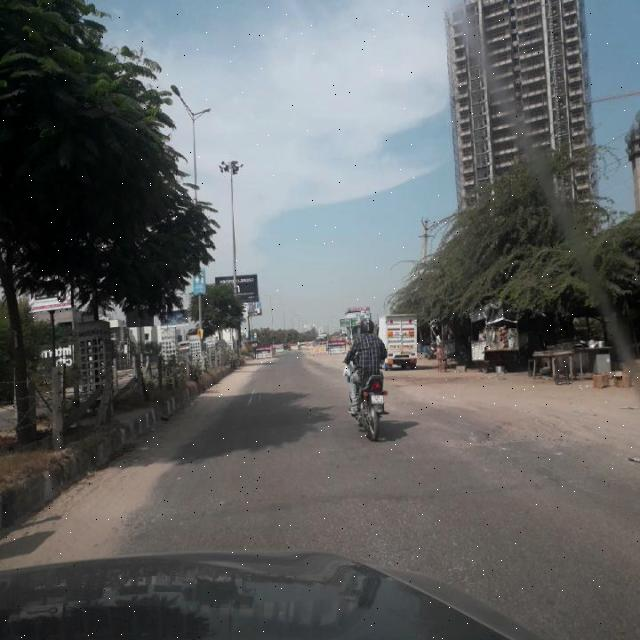D20: (141, 459, 627, 583)
D40: (464, 404, 580, 452)
